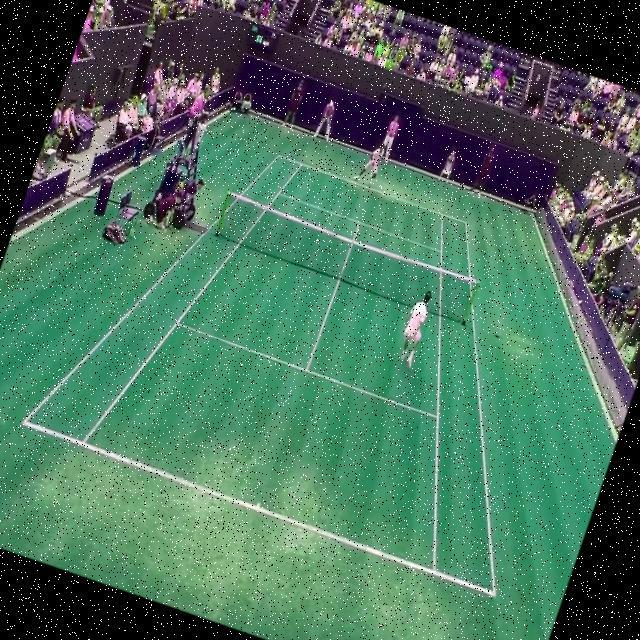court: (16, 102, 608, 598)
net: (211, 189, 485, 323)
player: (390, 286, 437, 370)
